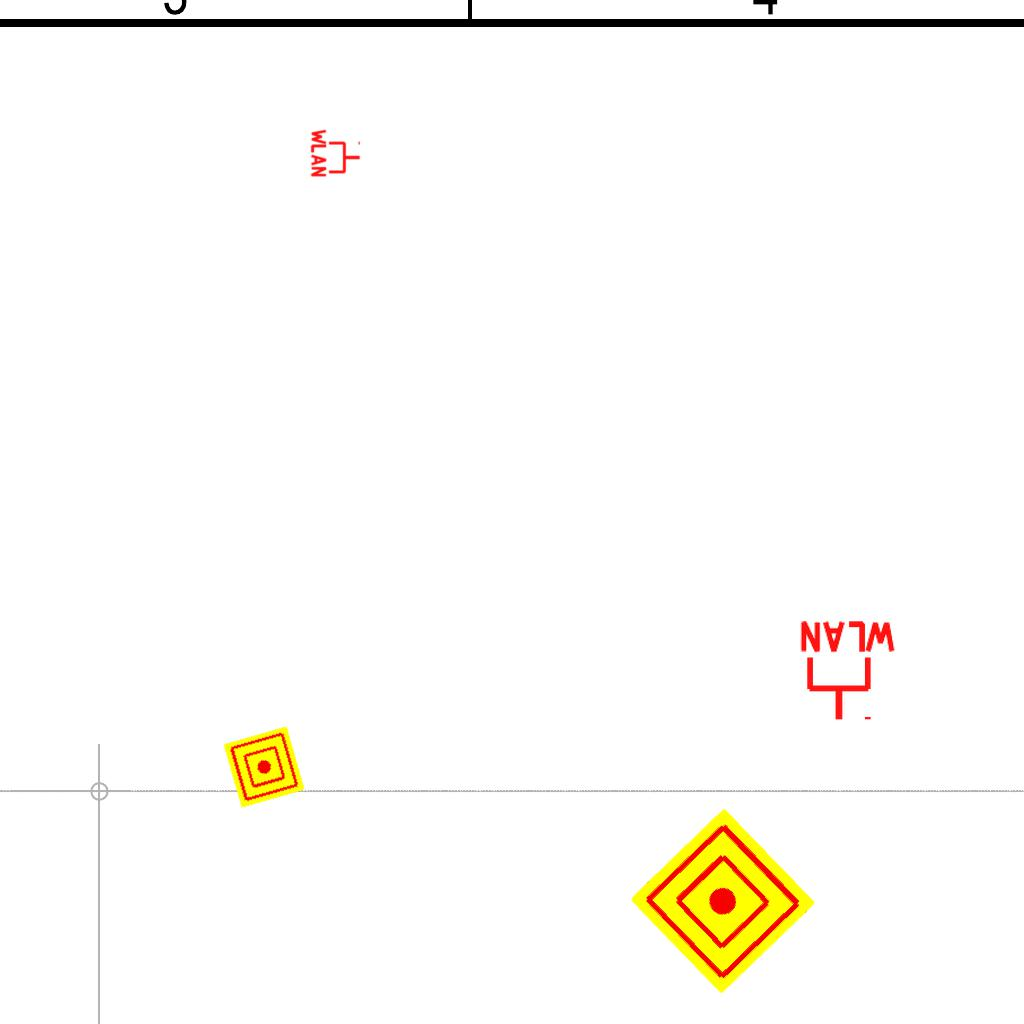NAM-Nichtautomatischer_Melder: (629, 807, 817, 995), (223, 726, 305, 808)
WLAN: (796, 619, 900, 724), (310, 127, 362, 179)
